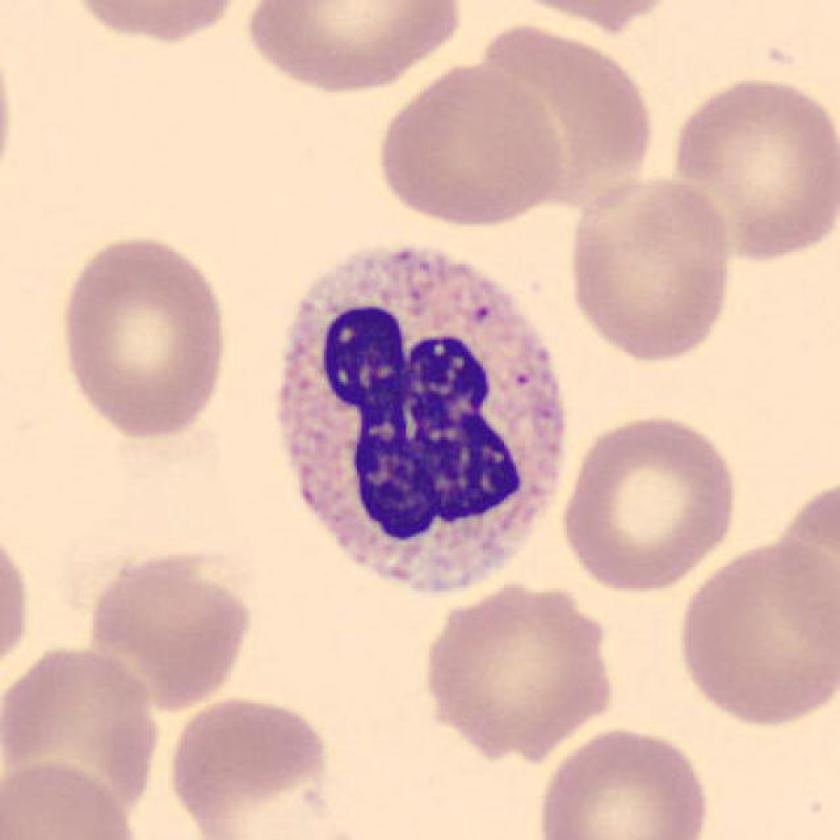neutrophil: (282, 249, 567, 594)
